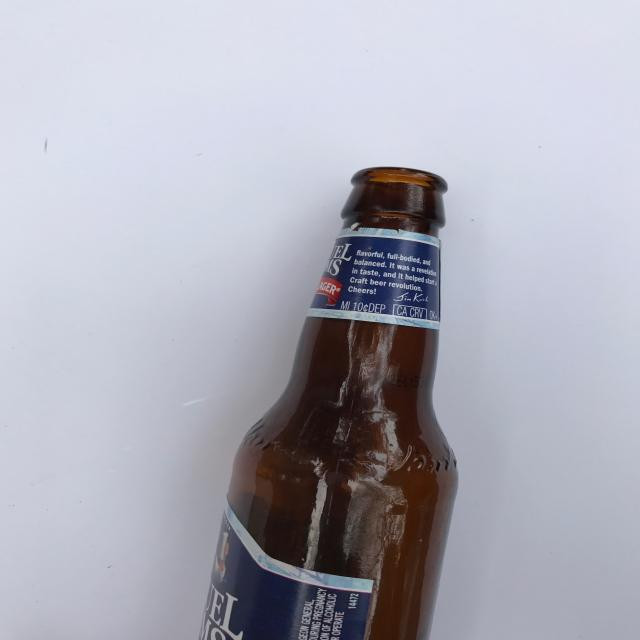glass: (196, 165, 459, 640)
